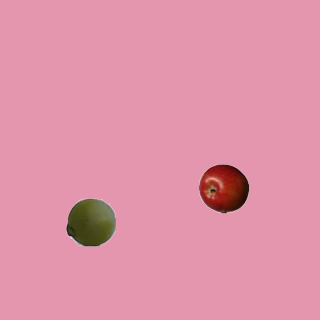Apple Braeburn: (198, 163, 248, 213)
Grape White 4: (65, 196, 115, 246)
